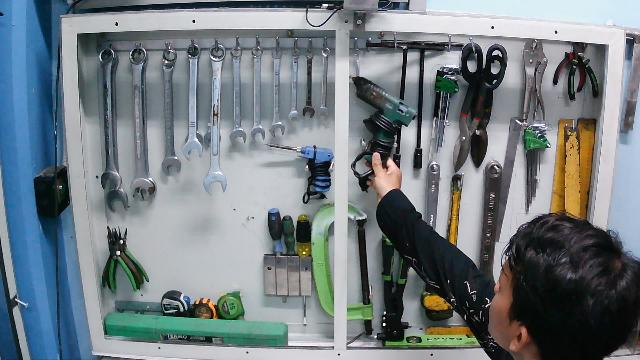gun_lem: (348, 74, 418, 194)
